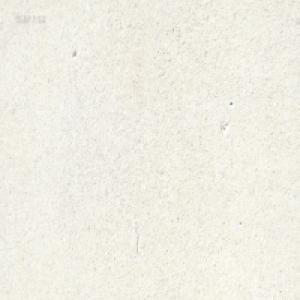Wrench: (139, 0, 146, 4)
